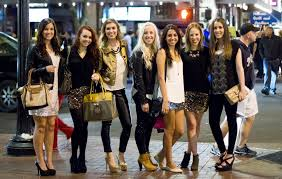person: (28, 16, 61, 76), (65, 18, 95, 81), (98, 15, 129, 66), (135, 20, 162, 68), (160, 23, 181, 71), (208, 15, 231, 58), (182, 21, 204, 61)
